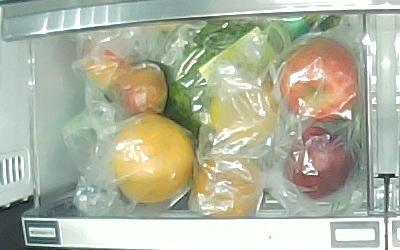apple_vinyl: (280, 37, 359, 123), (284, 127, 353, 199)
grapefruit_vinyl: (113, 113, 197, 203)
persimmon_vinyl: (195, 151, 260, 220)
prune_vinyl: (122, 62, 168, 115)
